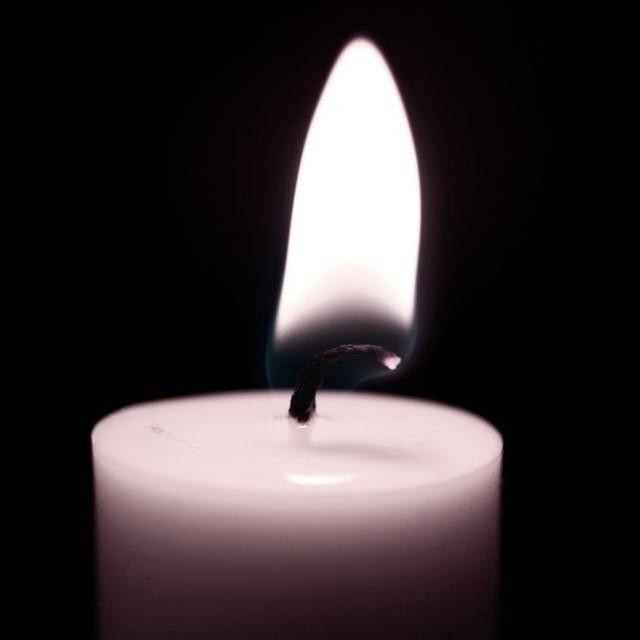Fire: (308, 102, 420, 340)
